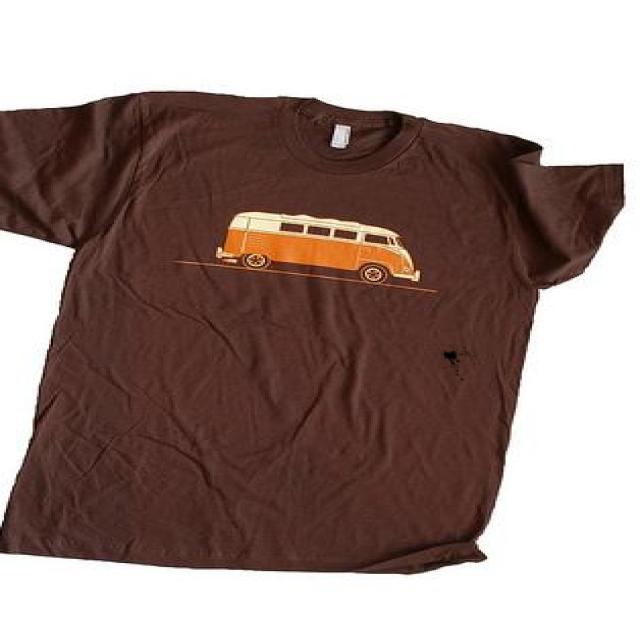stain: (437, 343, 474, 378)
